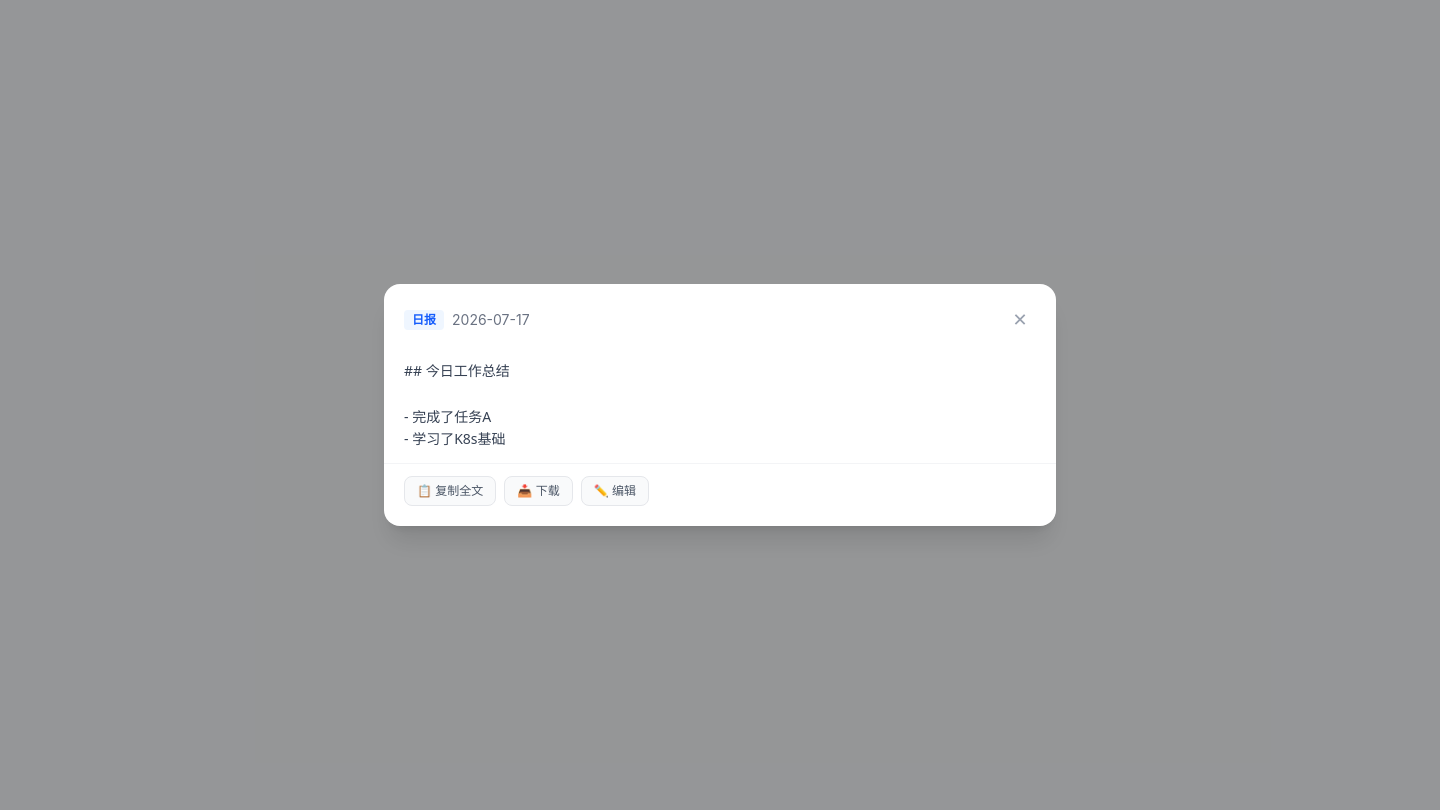
it: ReportDetail - v2 › should switch to edit mode when edit is clicked
What coordinates should you click on to do the following:
click the button "✏️ 编辑"
I would click on:
 (615, 491)
Its box is 581,476 -> 649,506.
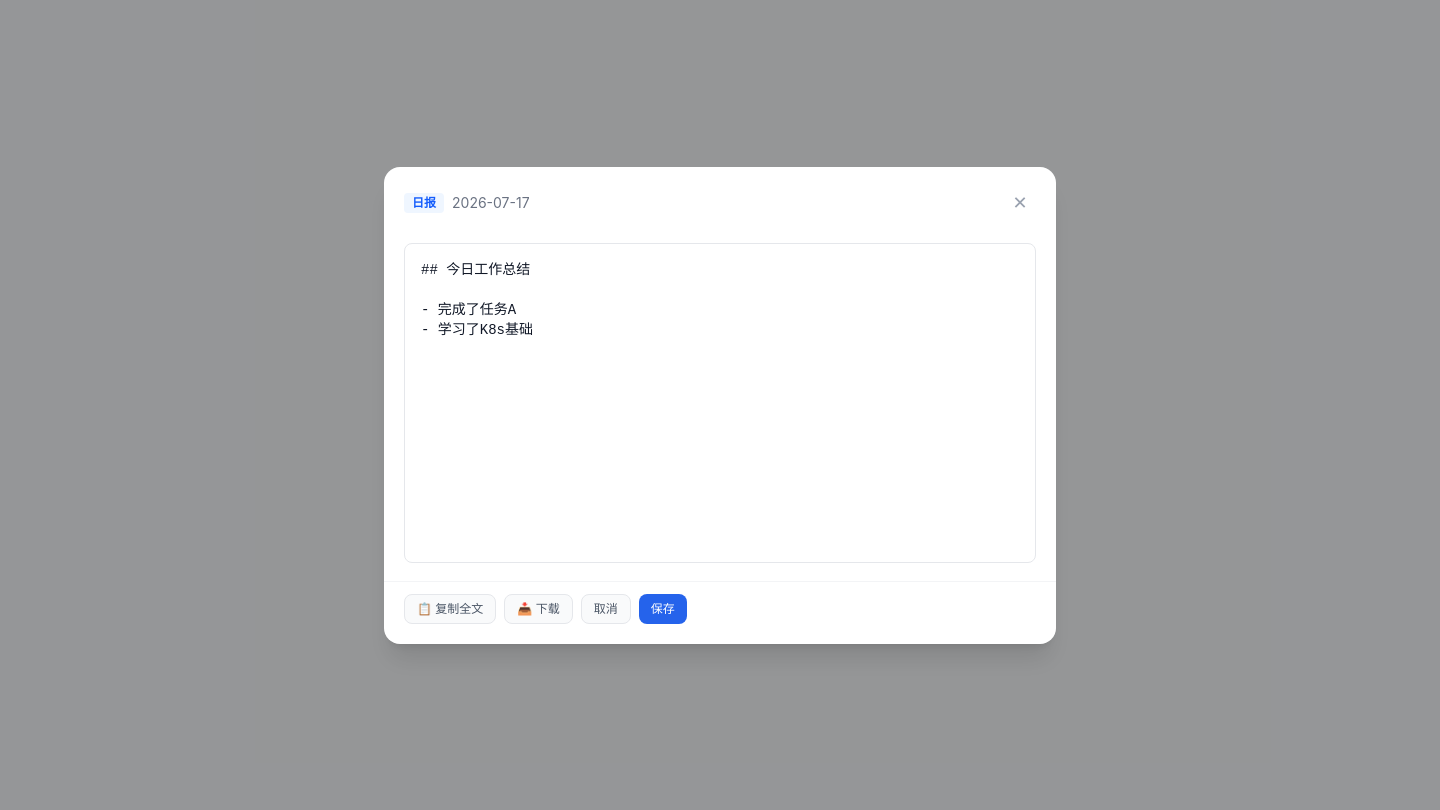
Now the text box is shown, box 404,242 -> 1036,562
